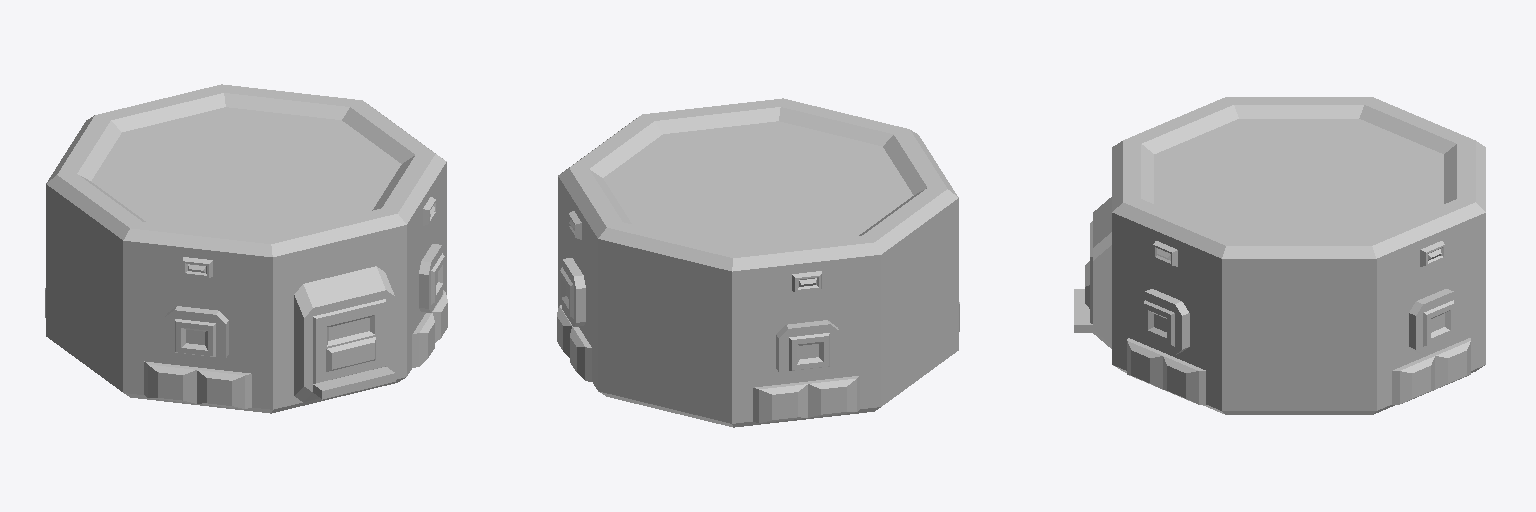
The model's file is basemodule_C.obj.
The picture shows the model from 3 angles: view 1: azimuth 30°, elevation 25°; view 2: azimuth 150°, elevation 25°; view 3: azimuth 270°, elevation 25°; orthographic projection.
Parts seen in each view (by area): view 1: basemodule_C_Cylinder.2722; view 2: basemodule_C_Cylinder.2722; view 3: basemodule_C_Cylinder.2722.
Part boxes in pixels (x1,y1,x2,y2): basemodule_C_Cylinder.2722: (45, 84, 447, 413); basemodule_C_Cylinder.2722: (557, 98, 959, 427); basemodule_C_Cylinder.2722: (1074, 97, 1485, 414).
Bounding box in the file's own units: 2 × 1 × 2.21.